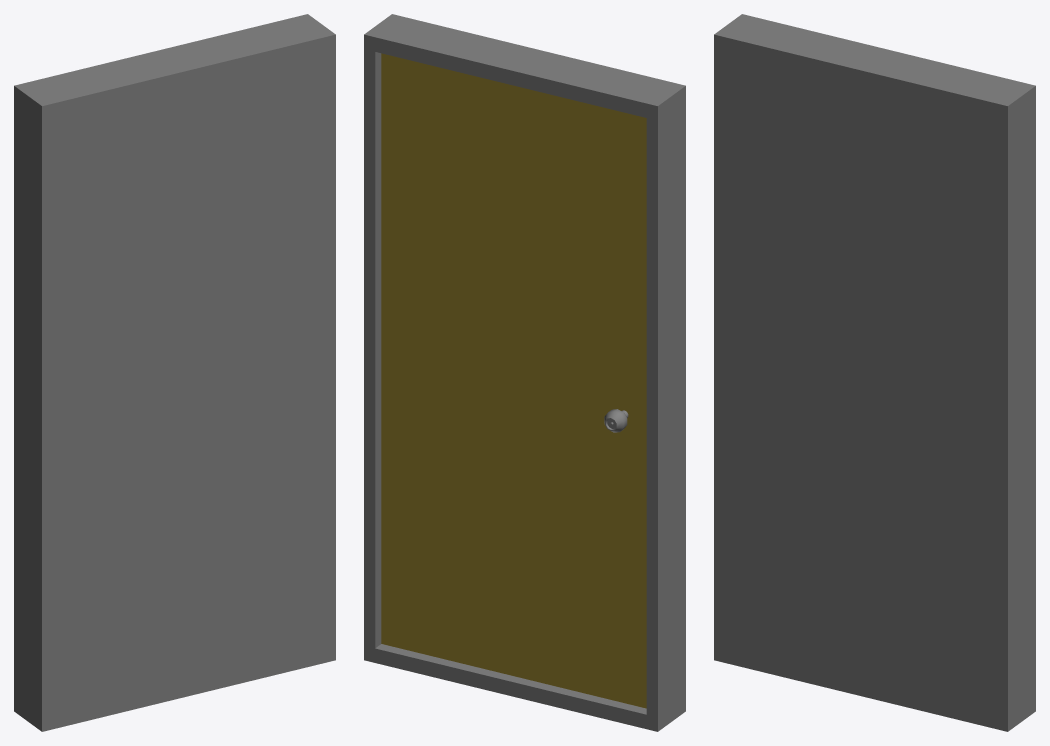
Rendered from Door.FBX.
3 renders of one model, left to right at view 1: azimuth 30°, elevation 25°; view 2: azimuth 150°, elevation 25°; view 3: azimuth 330°, elevation 25°, orthographic.
Visible parts, largest first — view 1: DoorMain_001; view 2: DoorMain_001; view 3: DoorMain_001.
Boxes of the visible parts, bbox=[...] form: DoorMain_001: bbox=[14, 14, 335, 731]; DoorMain_001: bbox=[364, 14, 685, 731]; DoorMain_001: bbox=[714, 14, 1035, 731].
Bounding box in the file's own units: 80.46 × 164 × 16.79.
